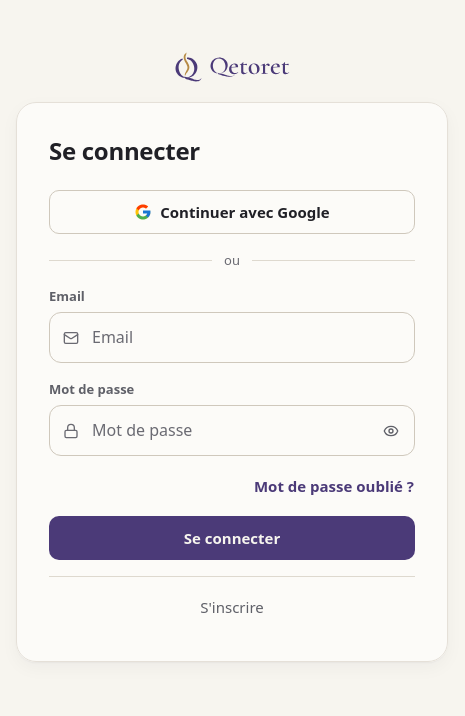
Scenario: AuthPage › presents registration as a secondary option (name field + create account)
Expected: the heading "Se connecter" is shown, top-left (49, 134), bottom-right (200, 167)
Expected: the element "S'inscrire" is shown, top-left (49, 576), bottom-right (415, 629)
Click the button "S'inscrire". click: (232, 607)
box: top-left (49, 585), bottom-right (415, 629)
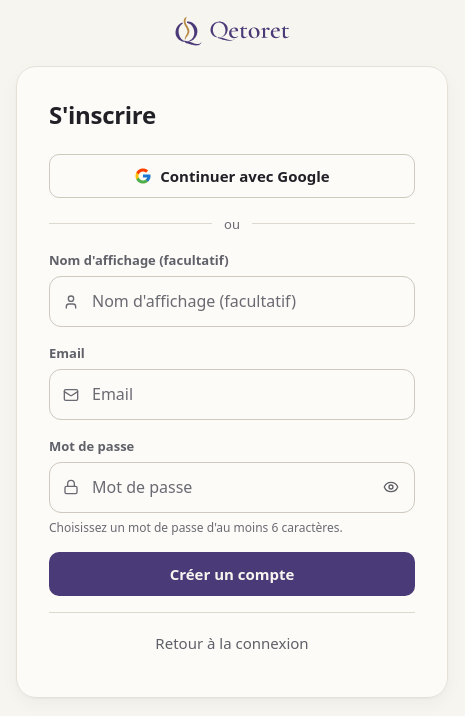
Expected: the heading "S'inscrire" is shown, top-left (49, 98), bottom-right (156, 131)
Expected: the button "Retour à la connexion" is shown, top-left (49, 621), bottom-right (415, 665)
Expected: the field labelled "Nom d'affichage (facultatif)" is shown, top-left (49, 276), bottom-right (415, 327)
